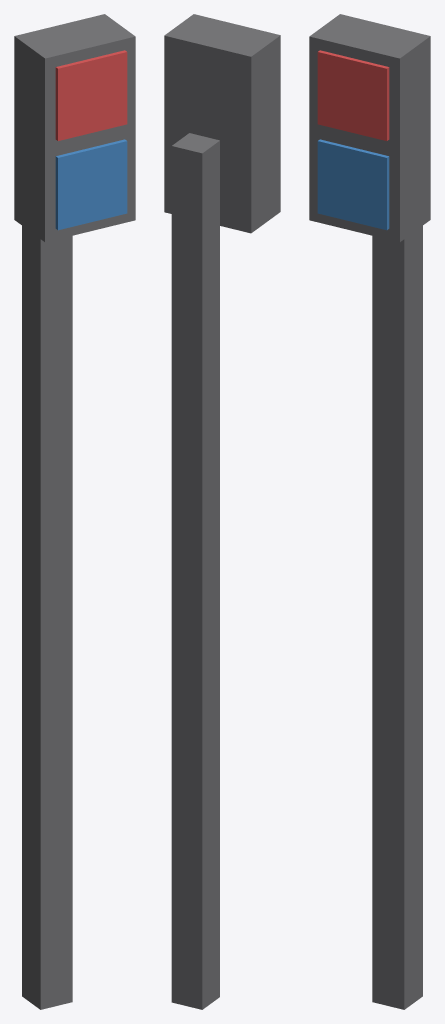
Rendered from WEB_Signal_Pedestrian.glb.
The picture shows the model from 3 angles, left to right: view 1: azimuth 30°, elevation 25°; view 2: azimuth 150°, elevation 25°; view 3: azimuth 330°, elevation 25°; orthographic projection. The views are drawn at different scales.
Parts seen in each view (by area): view 1: WEB_Signal_Pedestrian; view 2: WEB_Signal_Pedestrian; view 3: WEB_Signal_Pedestrian.
Part boxes in pixels (x1,y1,x2,y2): WEB_Signal_Pedestrian: (14,14,135,1009); WEB_Signal_Pedestrian: (164,14,280,1009); WEB_Signal_Pedestrian: (309,14,430,1009).
Bounding box in the file's own units: 0.34 × 3.53 × 0.355.
